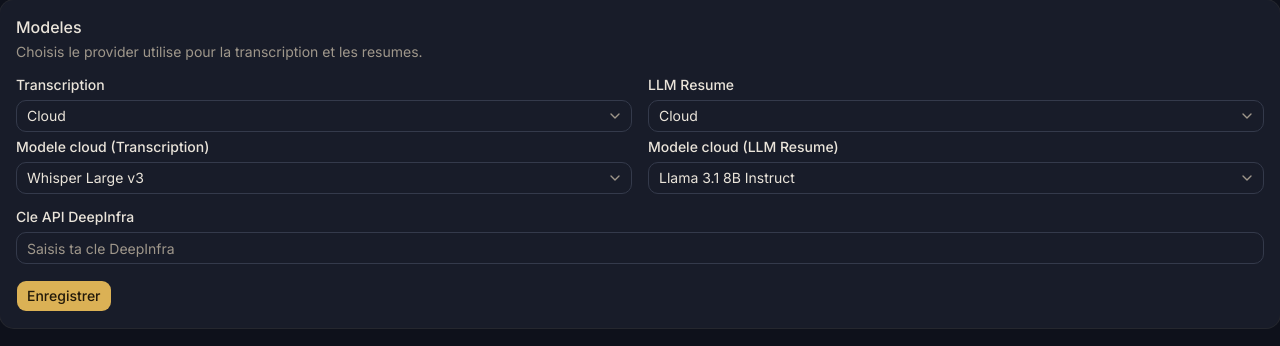
<ModelSettingsCard> › rend deux selecteurs de provider avec les libelles fonctionnels
Expected: the text "Modeles" is shown, [16, 17, 82, 37]
Expected: the dropdown named "LLM Resume" is shown, [648, 100, 1264, 132]
Click the dropdown named "Transcription" at coordinates (46, 116), box [16, 100, 632, 132]
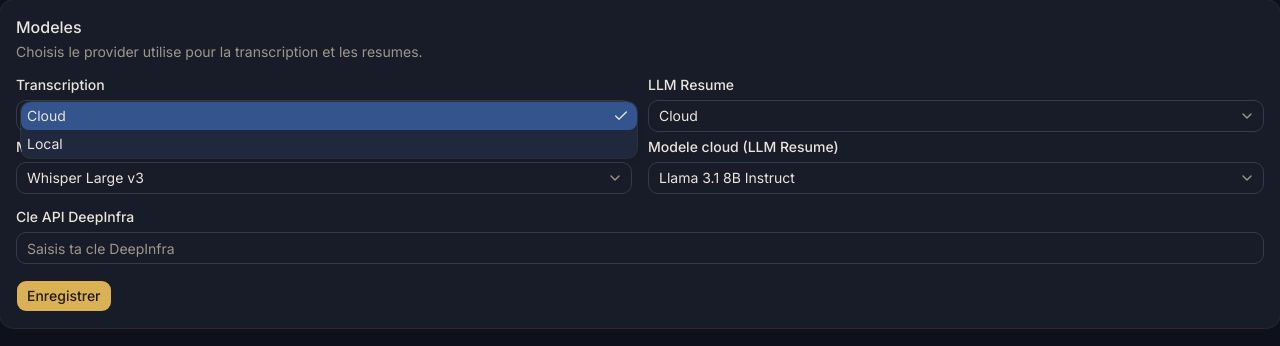
Expected: the option "Ollama" is not shown
Now the option "Cloud" is shown, box [21, 102, 637, 130]
Now the option "Local" is shown, box [27, 135, 63, 152]
// LLM Résumé selector still offers all three providers, Ollama included.
Press Escape
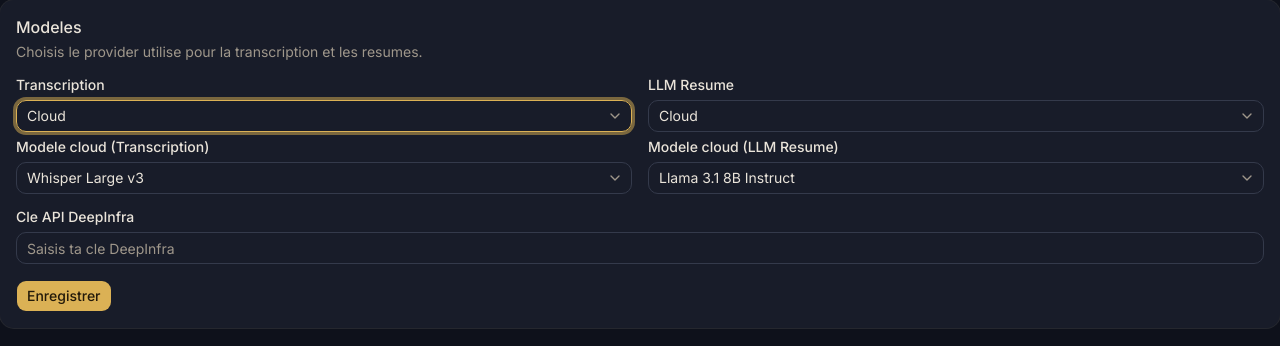
Click the dropdown named "LLM Resume" at coordinates (678, 116), box [648, 100, 1264, 132]
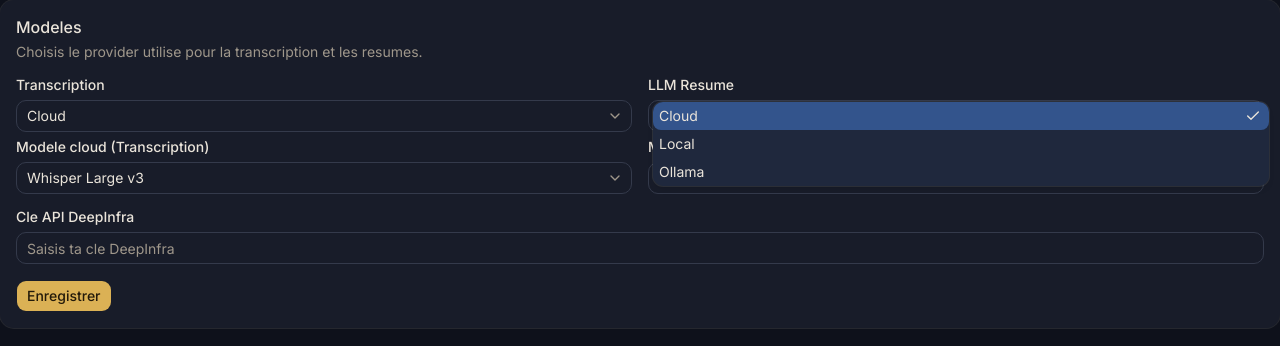
Now the option "Ollama" is shown, box [659, 163, 704, 180]
Now the option "Cloud" is shown, box [653, 102, 1269, 130]
Now the option "Local" is shown, box [659, 135, 695, 152]
